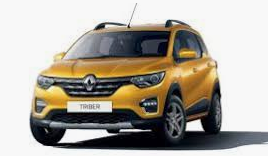car: (27, 19, 225, 149)
